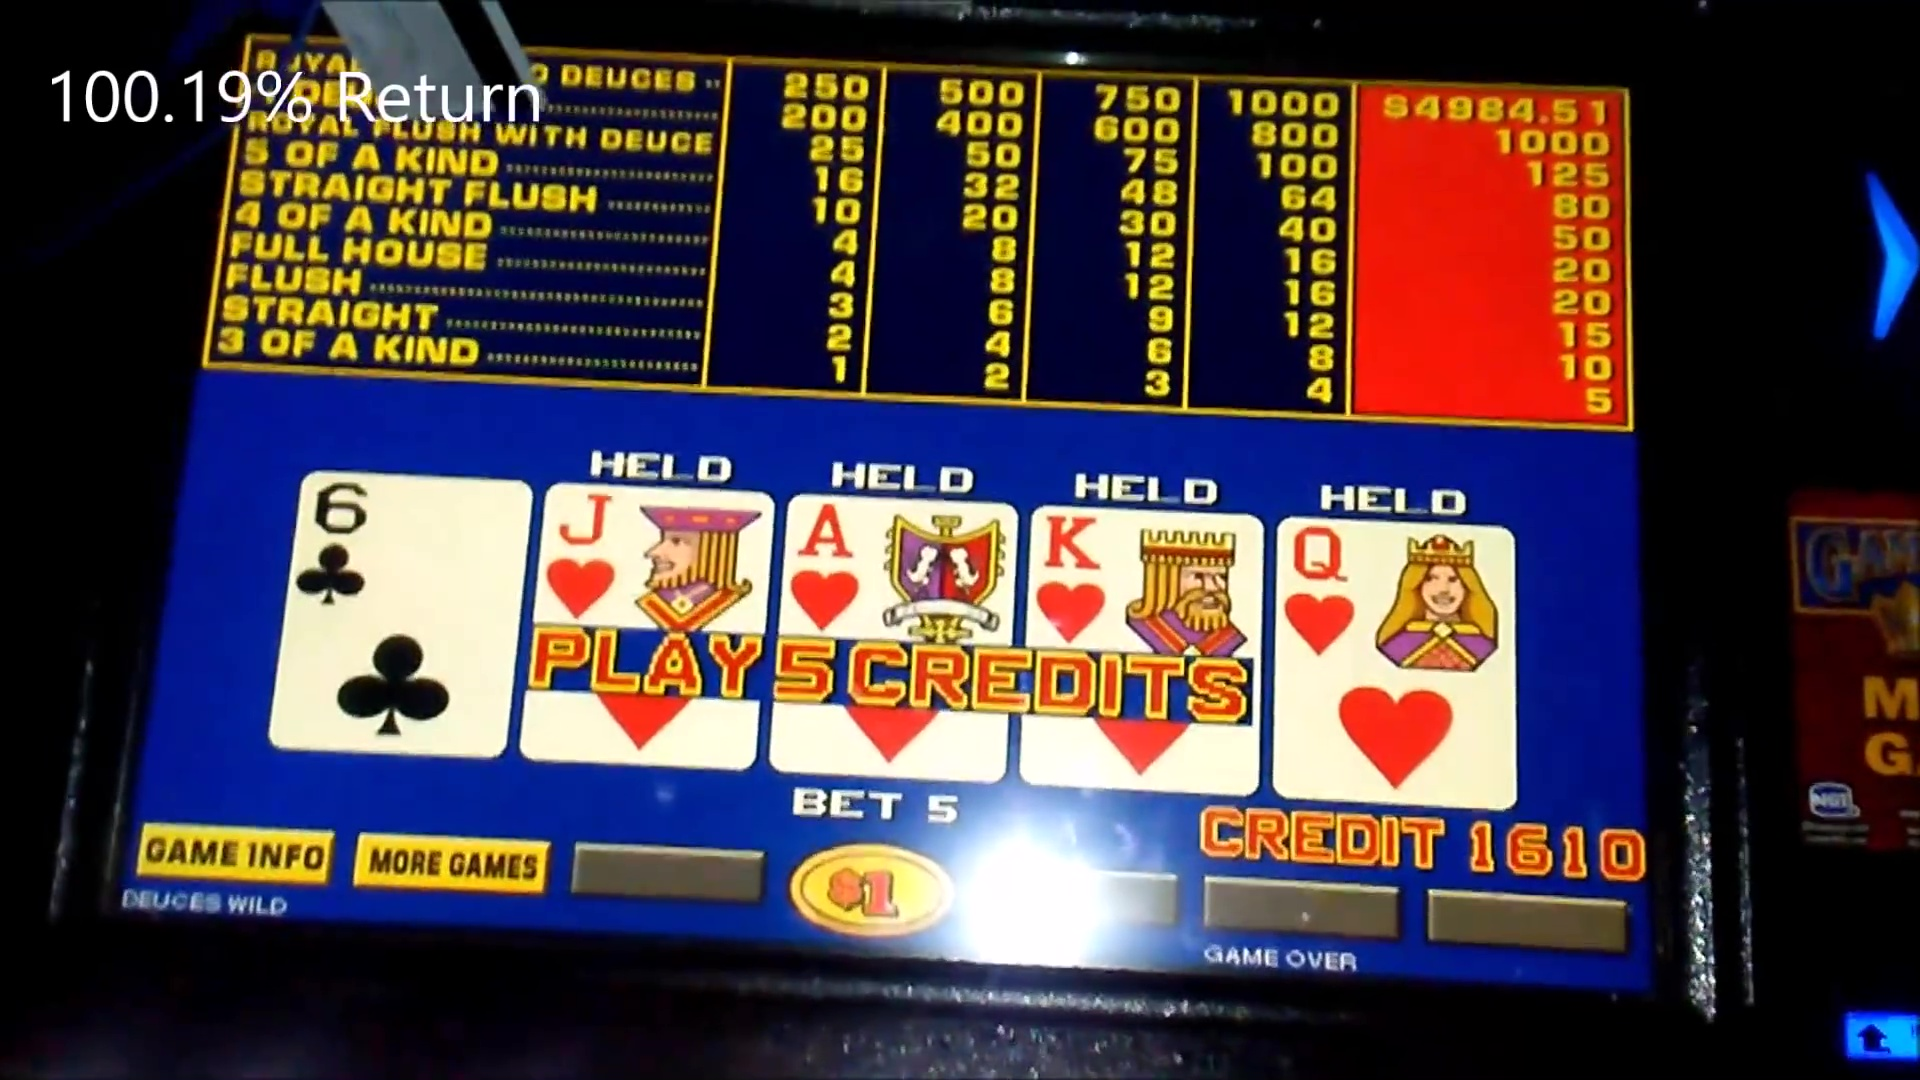C6: (303, 469, 509, 615)
HA: (796, 496, 1015, 637)
HJ: (553, 487, 756, 622)
HK: (1033, 518, 1258, 645)
HQ: (1283, 520, 1509, 663)
